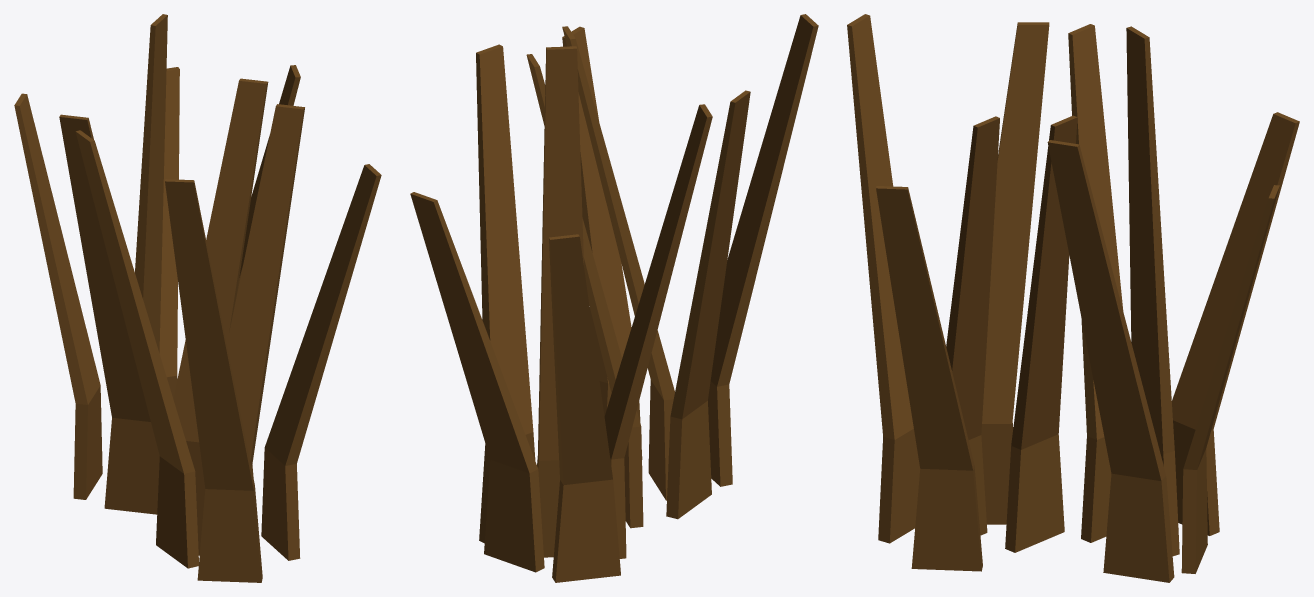
Rendered from grass.gltf.
The picture shows the model from 3 angles, left to right: view 1: azimuth 30°, elevation 25°; view 2: azimuth 150°, elevation 25°; view 3: azimuth 270°, elevation 25°; orthographic projection. The views are drawn at different scales.
Visible parts, largest first — view 1: grass001; view 2: grass001; view 3: grass001.
Boxes of the visible parts, x1,y1,x2,y2 form: grass001: (14, 14, 381, 582); grass001: (410, 14, 818, 582); grass001: (847, 14, 1299, 582).
Bounding box in the file's own units: 0.1282 × 0.2479 × 0.1971.
1 material, 1 textured.
